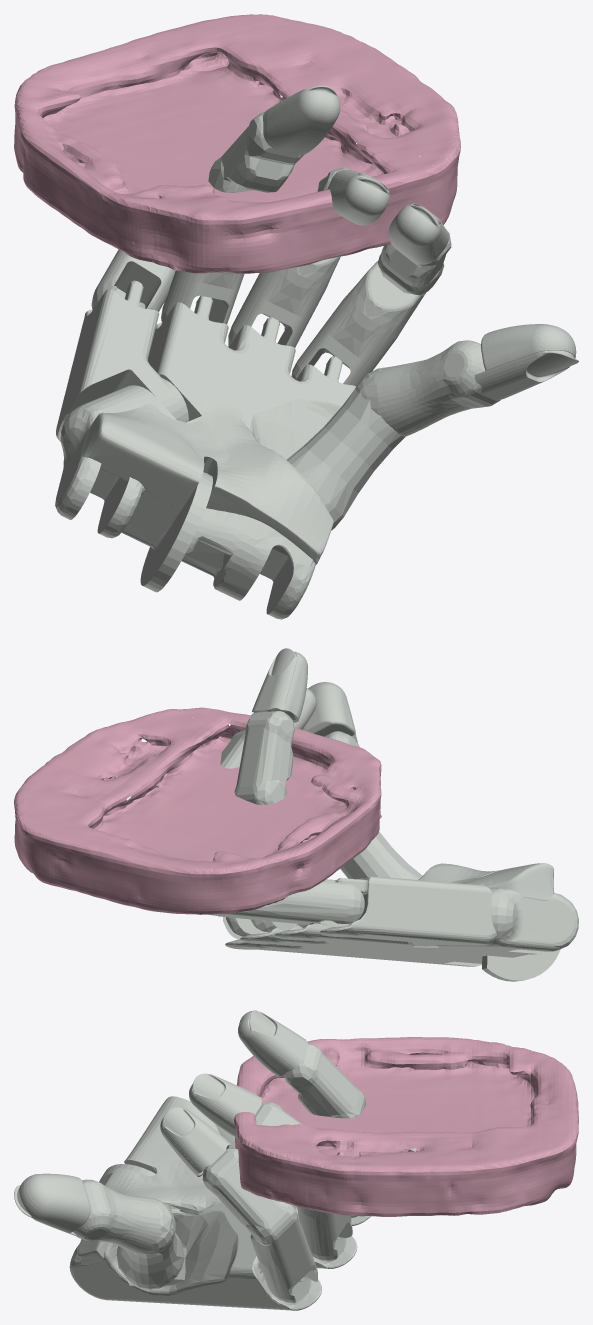
The picture shows the model from 3 angles, top to bottom: view 1: azimuth 30°, elevation 25°; view 2: azimuth 150°, elevation 25°; view 3: azimuth 270°, elevation 25°; orthographic projection. The views are drawn at different scales.
Visible parts, largest first — view 1: hand, world; view 2: world, hand; view 3: hand, world.
Boxes of the visible parts, x1,y1,x2,y2 form: hand: (55,85,578,619); world: (14,14,460,273); world: (14,707,381,914); hand: (209,648,578,981); hand: (14,1010,416,1310); world: (234,1037,578,1216).
Bounding box in the file's own units: 0.1744 × 0.1423 × 0.2153.
